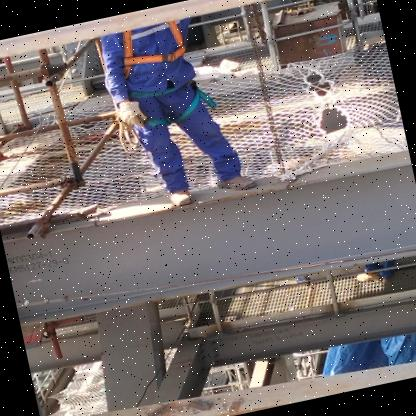bota: (214, 164, 258, 198), (158, 182, 198, 210)
